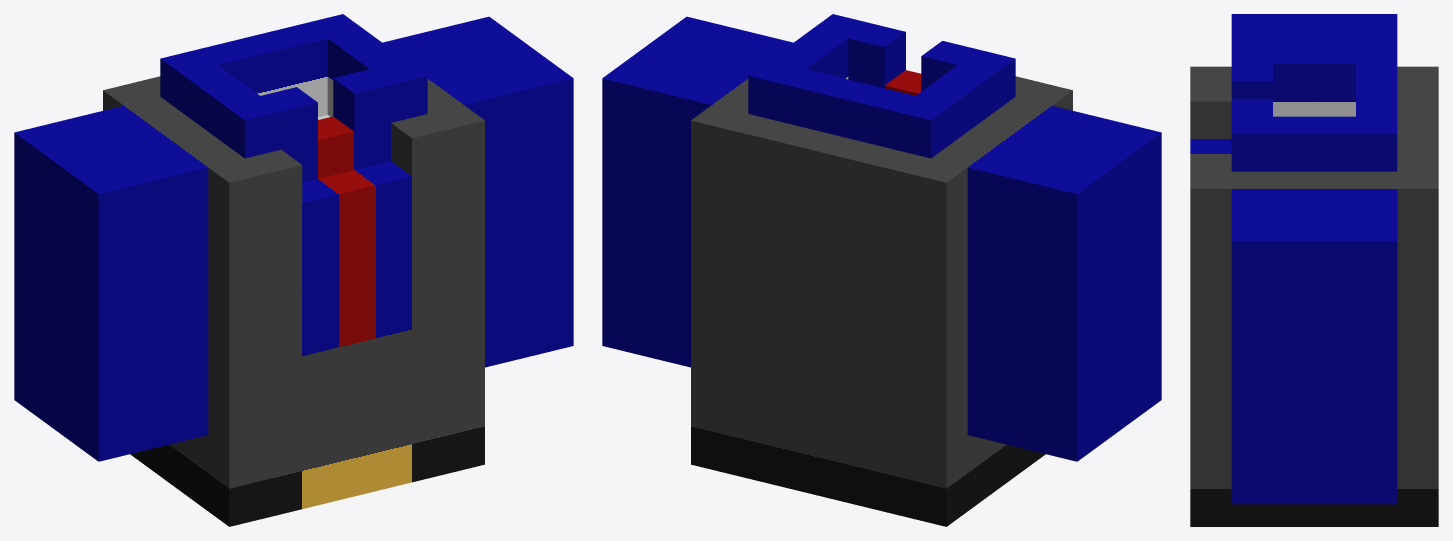
Rendered from Matrix_24.fbx.
The picture shows the model from 3 angles, left to right: view 1: azimuth 30°, elevation 25°; view 2: azimuth 150°, elevation 25°; view 3: azimuth 270°, elevation 25°; orthographic projection.
Visible parts, largest first — view 1: Matrix_24; view 2: Matrix_24; view 3: Matrix_24.
Part boxes in pixels (x1,y1,x2,y2): Matrix_24: (14, 14, 573, 526); Matrix_24: (602, 14, 1161, 526); Matrix_24: (1190, 14, 1438, 526).
Size of the model in its own units: 13 by 10 by 6.
1 material, 1 textured.
